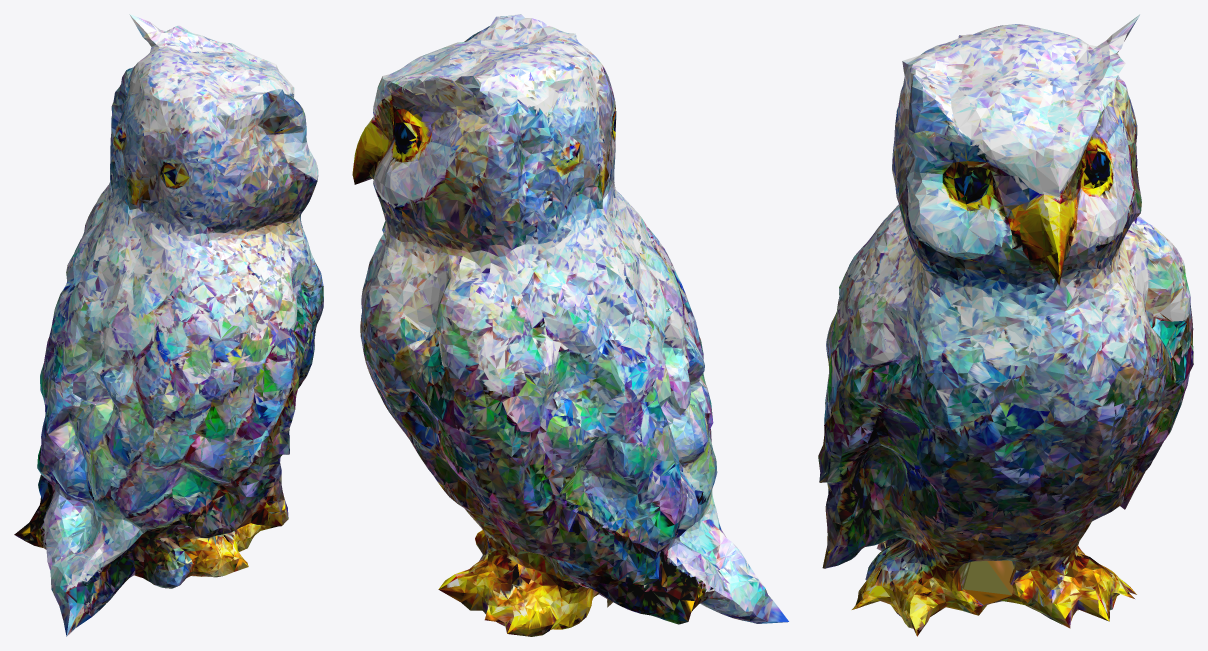
File: owl-scribble.glb
The picture shows the model from 3 angles, left to right: view 1: azimuth 30°, elevation 25°; view 2: azimuth 150°, elevation 25°; view 3: azimuth 270°, elevation 25°; orthographic projection. The views are drawn at different scales.
Visible parts, largest first — view 1: extracted_mesh; view 2: extracted_mesh; view 3: extracted_mesh.
Part boxes in pixels (x1,y1,x2,y2): extracted_mesh: [14, 14, 323, 636]; extracted_mesh: [352, 14, 788, 636]; extracted_mesh: [818, 14, 1193, 636].
Bounding box in the file's own units: 0.5986 × 0.9529 × 0.5089.
Materials: 1 (1 with a texture image).
